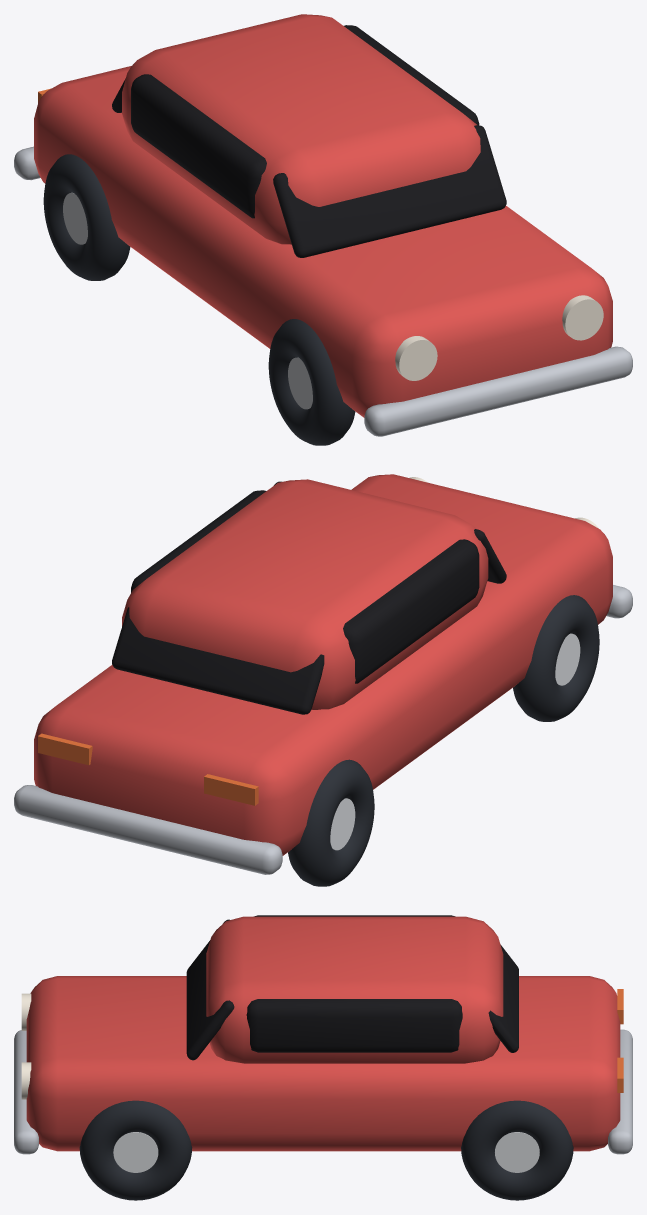
File: car.glb
3 views of the same model, one above another, from view 1: azimuth 30°, elevation 25°; view 2: azimuth 150°, elevation 25°; view 3: azimuth 270°, elevation 25° (orthographic). The views are drawn at different scales.
Parts seen in each view (by area): view 1: body.002, cabin, wind, sidewl, bumperf, wf-1_tire, wr-1_tire, head-1, head1, wr-1_rim, wf-1_rim, bumperr; view 2: body.002, cabin, sidewl, rearw, bumperr, wf-1_tire, wr-1_tire, tail-1, tail1, wf-1_rim, wr-1_rim, wind (+1 smaller); view 3: body.002, cabin, sidewl, wf1_tire, wr1_tire, wind, rearw, bumperr, bumperf, wf1_rim, wr1_rim.
Part boxes in pixels (box(x1,y1,x2,y2)): body.002: box(34, 66, 612, 417); cabin: box(122, 14, 480, 244); wind: box(273, 125, 506, 257); sidewl: box(131, 25, 479, 218); bumperf: box(364, 346, 632, 436); wf-1_tire: box(268, 319, 355, 445); wr-1_tire: box(43, 154, 130, 280); head-1: box(395, 336, 437, 380); head1: box(562, 295, 603, 340); wr-1_rim: box(63, 192, 87, 244); wf-1_rim: box(288, 357, 312, 409); bumperr: box(14, 146, 40, 180); body.002: box(34, 474, 612, 855); cabin: box(122, 479, 488, 709); sidewl: box(131, 490, 479, 683); rearw: box(112, 607, 324, 714); bumperr: box(14, 785, 282, 874); wf-1_tire: box(513, 595, 599, 721); wr-1_tire: box(288, 759, 374, 886); tail-1: box(204, 774, 258, 805); tail1: box(38, 733, 92, 765); wf-1_rim: box(555, 633, 580, 685); wr-1_rim: box(330, 798, 355, 850); wind: box(274, 481, 506, 583); body.002: box(26, 976, 620, 1151); cabin: box(206, 916, 503, 1063); sidewl: box(246, 915, 462, 1052); wf1_tire: box(79, 1100, 192, 1200); wr1_tire: box(461, 1100, 573, 1200); wind: box(186, 919, 234, 1060); rearw: box(488, 944, 518, 1052); bumperr: box(608, 1029, 632, 1154); bumperf: box(14, 1030, 38, 1154); wf1_rim: box(113, 1132, 158, 1172); wr1_rim: box(495, 1132, 539, 1172).
Bounding box in the file's own units: 0.88 × 0.7 × 1.98.
